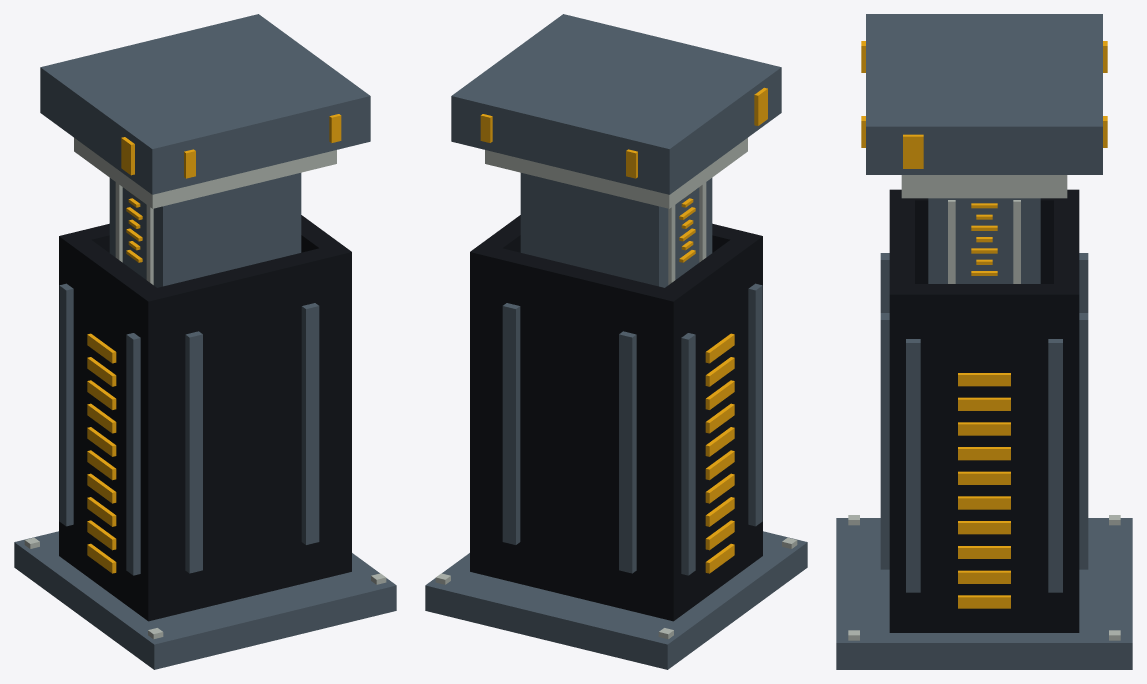
3 renders of one model, left to right at view 1: azimuth 30°, elevation 25°; view 2: azimuth 150°, elevation 25°; view 3: azimuth 270°, elevation 25°, orthographic. The views are drawn at different scales.
Parts seen in each view (by area): view 1: Sleeve_top, Front_mount_flange, Sleeve_side_-1, Rear_mount_flange, Slider_top, Sleeve_side_1, Sleeve_top_rail_1_0.24, Sleeve_top_rail_1_-0.24, Slider_side_-1, Slider_nose_cap, Sleeve_lateral_rail_top_-1, Sleeve_lateral_rail_bottom_-1 (+3 smaller); view 2: Sleeve_bottom, Front_mount_flange, Sleeve_side_-1, Rear_mount_flange, Slider_bottom, Sleeve_side_1, Sleeve_top_rail_-1_0.24, Sleeve_top_rail_-1_-0.24, Slider_side_-1, Slider_nose_cap, Sleeve_lateral_rail_bottom_-1, Sleeve_lateral_rail_top_-1 (+3 smaller); view 3: Sleeve_side_1, Front_mount_flange, Rear_mount_flange, Slider_side_1, Slider_nose_cap, Sleeve_lateral_rail_top_1, Sleeve_lateral_rail_bottom_1, Sleeve_side_-1, Sleeve_top_rail_-1_0.24, Sleeve_top_rail_1_0.24, Sleeve_bottom, Sleeve_top (+15 smaller).
Boxes of the visible parts, x1,y1,x2,y2 form: Sleeve_top: (157, 248, 331, 616); Front_mount_flange: (40, 14, 370, 194); Sleeve_side_-1: (59, 231, 168, 621); Rear_mount_flange: (14, 531, 396, 669); Slider_top: (176, 176, 287, 282); Sleeve_side_1: (301, 215, 351, 576); Sleeve_top_rail_1_0.24: (301, 303, 319, 544); Sleeve_top_rail_1_-0.24: (185, 331, 202, 573); Slider_side_-1: (109, 178, 176, 287); Slider_nose_cap: (74, 138, 336, 208); Sleeve_lateral_rail_top_-1: (126, 333, 140, 575); Sleeve_lateral_rail_bottom_-1: (59, 283, 73, 526); Sleeve_bottom: (490, 248, 664, 616); Front_mount_flange: (451, 14, 781, 194); Sleeve_side_-1: (653, 231, 762, 621); Rear_mount_flange: (425, 531, 807, 669); Slider_bottom: (534, 176, 645, 282); Sleeve_side_1: (470, 215, 520, 576); Sleeve_top_rail_-1_0.24: (502, 303, 520, 544); Sleeve_top_rail_-1_-0.24: (619, 331, 636, 573); Slider_side_-1: (645, 178, 712, 287); Slider_nose_cap: (485, 138, 747, 208); Sleeve_lateral_rail_bottom_-1: (681, 333, 695, 575); Sleeve_lateral_rail_top_-1: (748, 283, 762, 526); Sleeve_side_1: (889, 284, 1079, 632); Front_mount_flange: (866, 14, 1102, 174); Rear_mount_flange: (836, 518, 1132, 669); Slider_side_1: (928, 198, 1040, 283); Slider_nose_cap: (901, 175, 1067, 198); Sleeve_lateral_rail_top_1: (906, 339, 920, 592); Sleeve_lateral_rail_bottom_1: (1048, 339, 1062, 592); Sleeve_side_-1: (889, 189, 1079, 283); Sleeve_top_rail_-1_0.24: (1079, 313, 1088, 569); Sleeve_top_rail_1_0.24: (880, 313, 889, 569); Sleeve_bottom: (1054, 200, 1079, 283); Sleeve_top: (889, 200, 914, 283).
Size of the model in its own units: 1 by 2 by 1.
